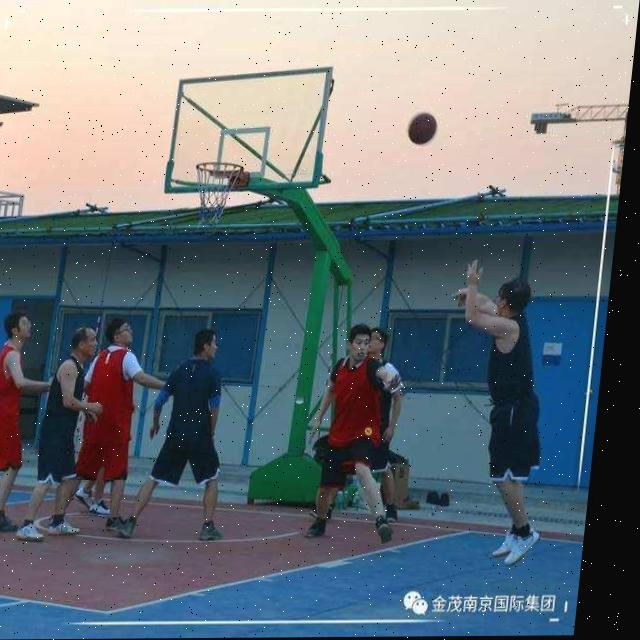basketball: (405, 111, 439, 146)
hoop: (188, 160, 243, 225)
